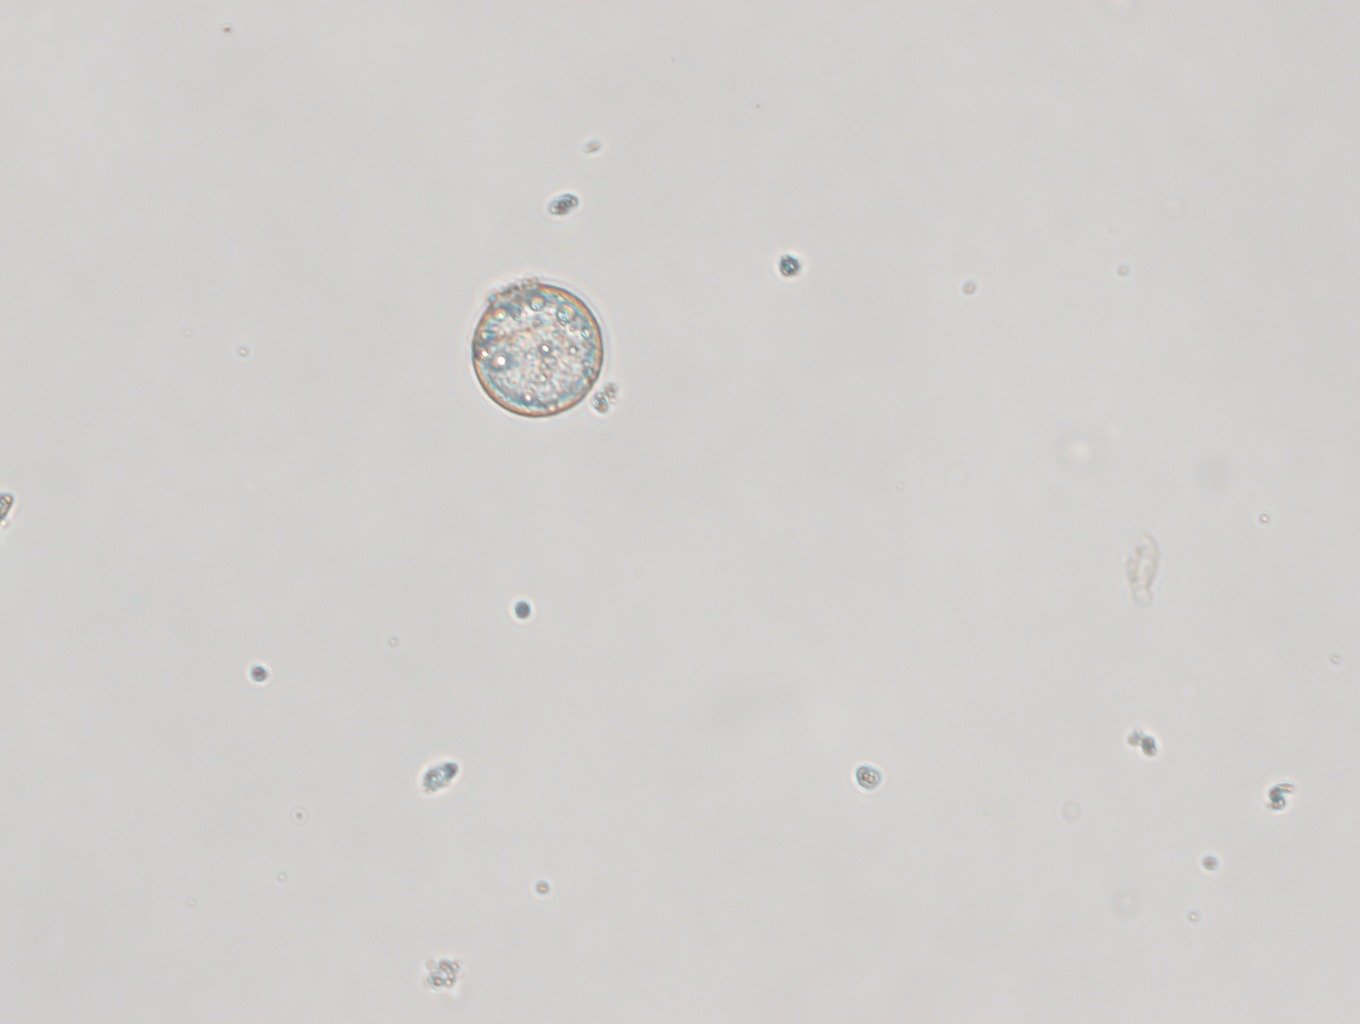coscinodiscus: (469, 271, 606, 426)
